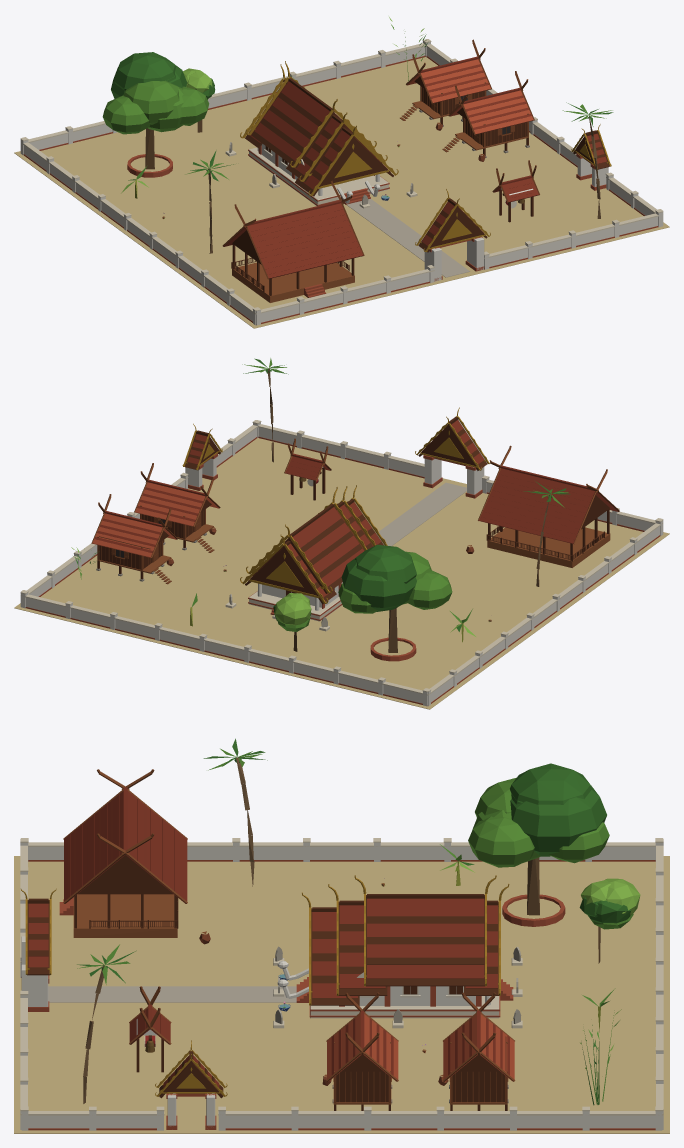
File: temple_1.glb
3 renders of one model, top to bottom at view 1: azimuth 30°, elevation 25°; view 2: azimuth 150°, elevation 25°; view 3: azimuth 270°, elevation 25°, orthographic. The views are drawn at different scales.
Visible parts, largest first — view 1: body; view 2: body; view 3: body.
Part boxes in pixels (x1,y1,x2,y2): body: (14,17,669,328); body: (14,358,669,709); body: (14,738,669,1133).
Bounding box in the file's own units: 47.9 × 12.02 × 47.9.
